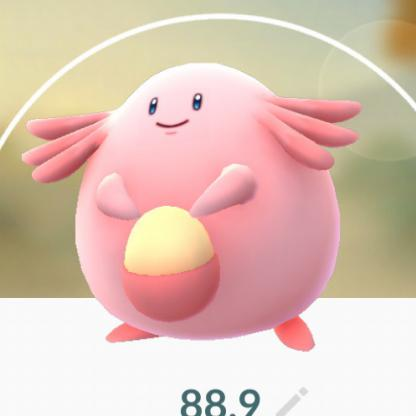Chansey: (30, 61, 367, 357)
